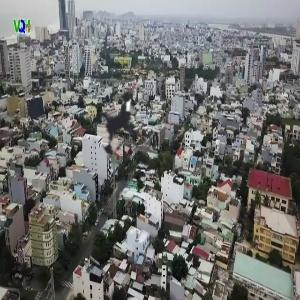drone: (60, 57, 191, 188)
